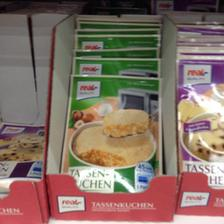Kuchen: (55, 70, 164, 190), (173, 46, 223, 187)
